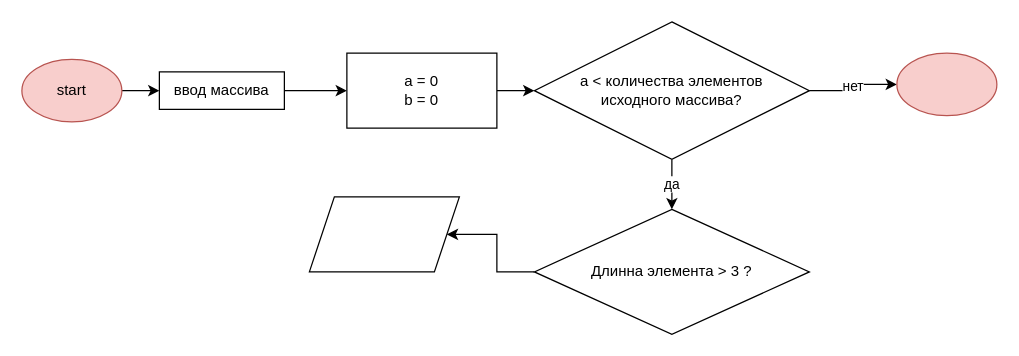
This 1019x356 diagram has some shape labels left out. Here are the shapes that lost their labels. From the top down, the box of each, then its label:
(896, 52, 997, 116): end
(308, 196, 459, 272): а++
